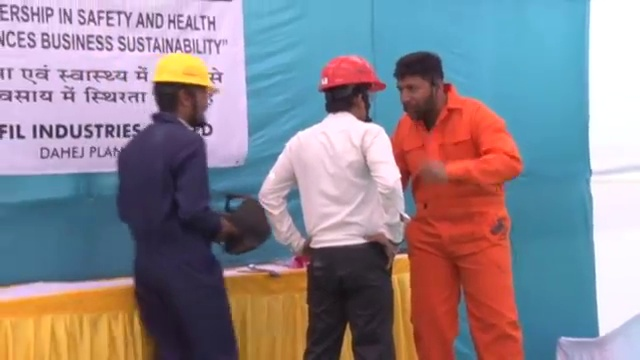helmet: (316, 54, 387, 93), (150, 52, 215, 90)
helmet_off: (393, 53, 448, 120)
helmet_on: (314, 53, 387, 123), (149, 51, 214, 127)
person: (257, 53, 407, 359), (391, 52, 527, 360), (115, 53, 240, 360)
